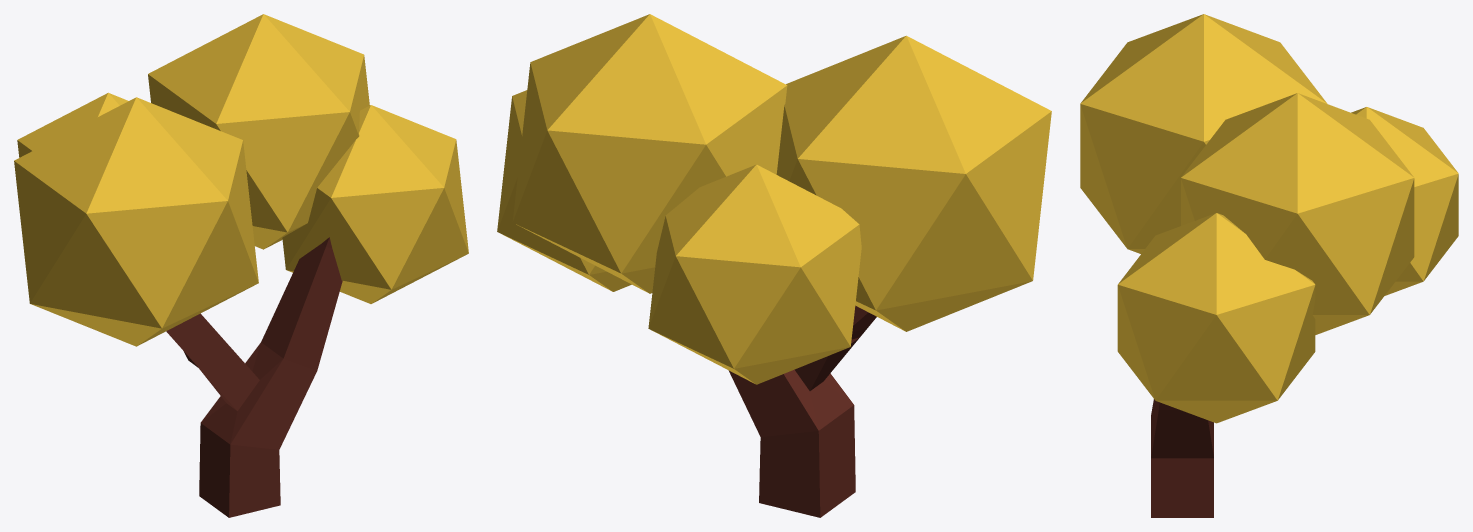
The model's file is sariAgac.gltf.
3 renders of one model, left to right at view 1: azimuth 30°, elevation 25°; view 2: azimuth 150°, elevation 25°; view 3: azimuth 270°, elevation 25°, orthographic. The views are drawn at different scales.
Parts seen in each view (by area): view 1: Cube.002; view 2: Cube.002; view 3: Cube.002.
Boxes of the visible parts, x1=… form: Cube.002: x1=14, y1=14, x2=468, y2=517; Cube.002: x1=497, y1=14, x2=1051, y2=517; Cube.002: x1=1080, y1=14, x2=1458, y2=517.
Size of the model in its own units: 4.99 by 4.72 by 3.58.
